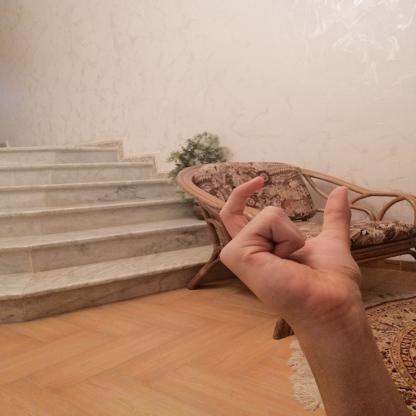NOON: (204, 165, 379, 333)
